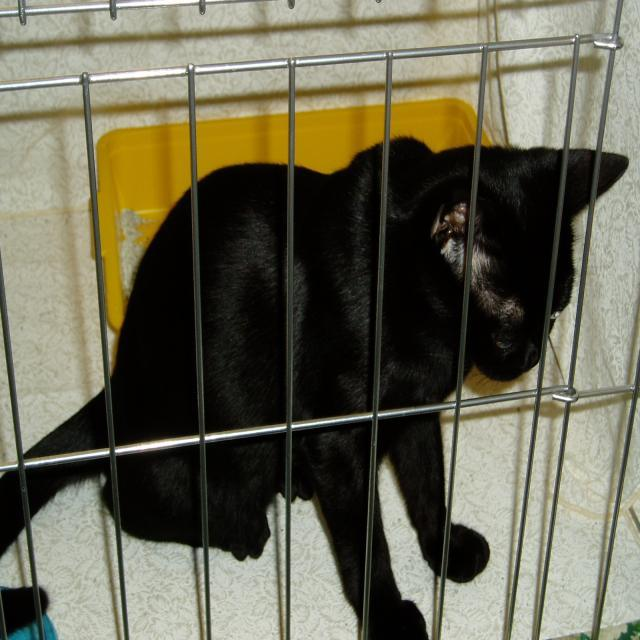Bombay: (410, 135, 635, 398)
